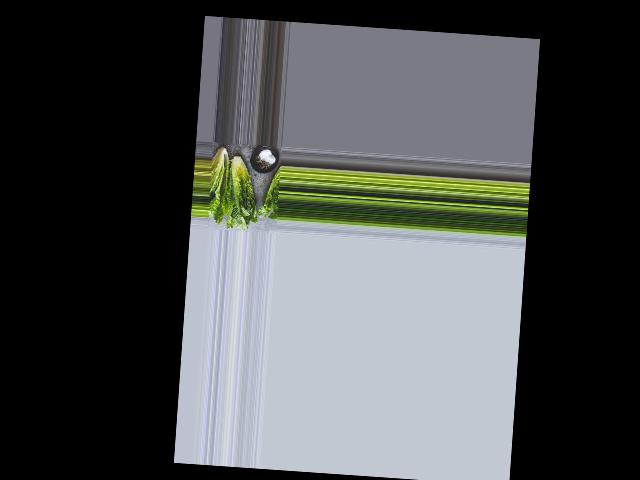lettuce: (208, 141, 233, 219)
